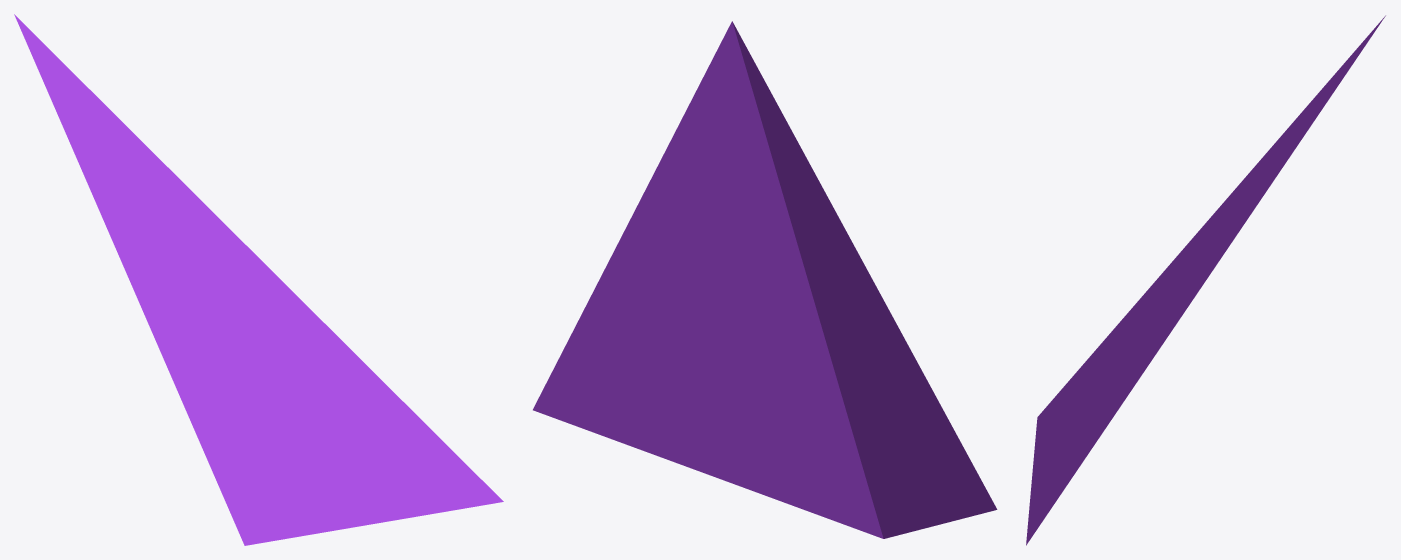
File: Window_85_3_chunks.fbx
The picture shows the model from 3 angles, left to right: view 1: azimuth 30°, elevation 25°; view 2: azimuth 150°, elevation 25°; view 3: azimuth 270°, elevation 25°; orthographic projection. The views are drawn at different scales.
Visible parts, largest first — view 1: Window_85_3_0; view 2: Window_85_3_0; view 3: Window_85_3_0.
Boxes of the visible parts, <box> form: Window_85_3_0: <box>14,14,503,545</box>; Window_85_3_0: <box>533,21,997,538</box>; Window_85_3_0: <box>1026,15,1385,545</box>.
Size of the model in its own units: 227 by 305 by 253.
